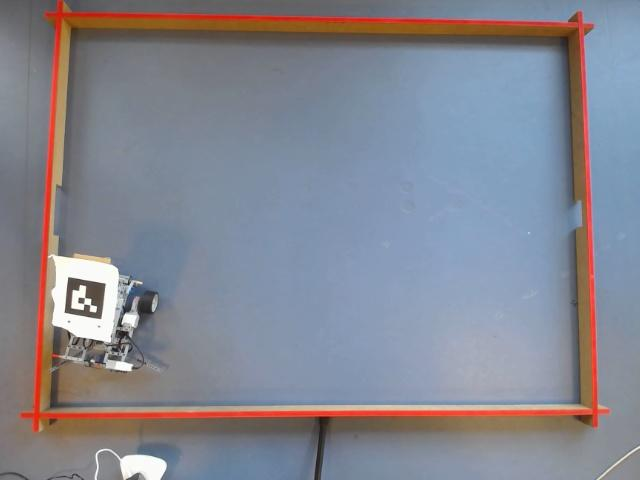ev3: (51, 255, 169, 374)
